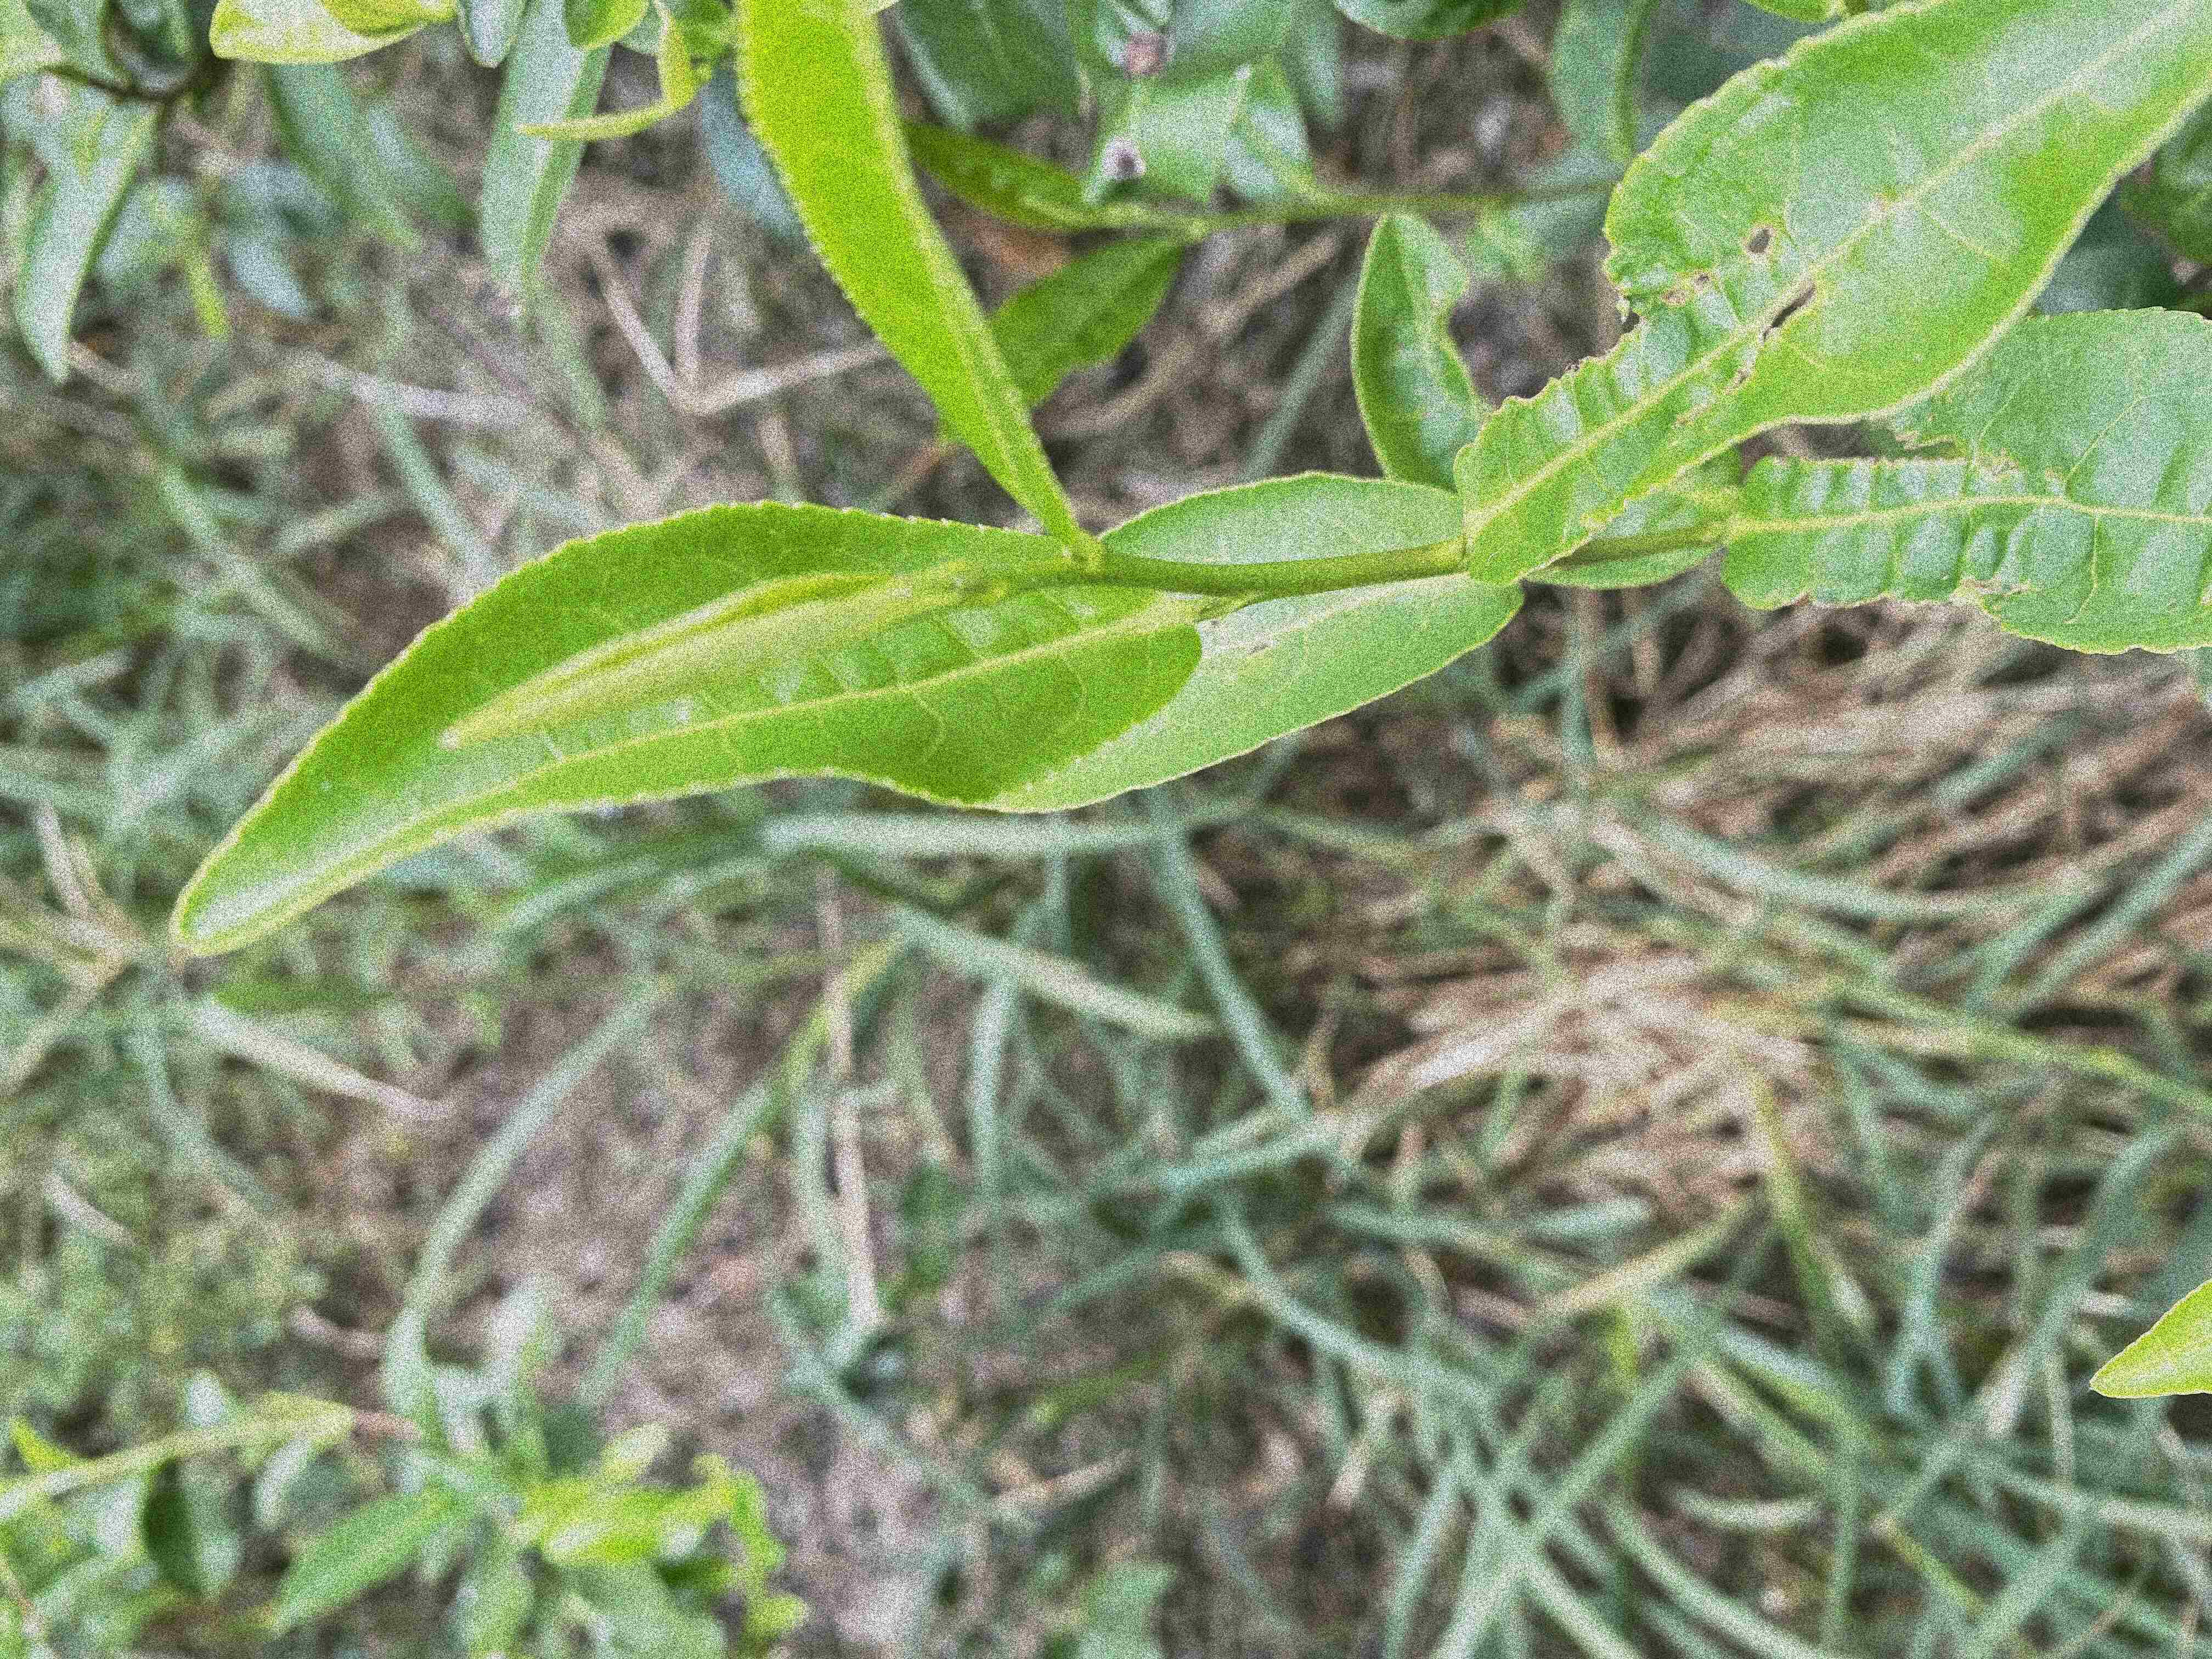chihuo_high: (1449, 5, 2209, 587), (1721, 307, 2212, 659)
healthy: (169, 493, 1204, 958), (733, 0, 1085, 559)
